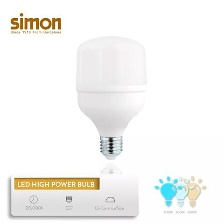light_bulb: (67, 27, 151, 163)
